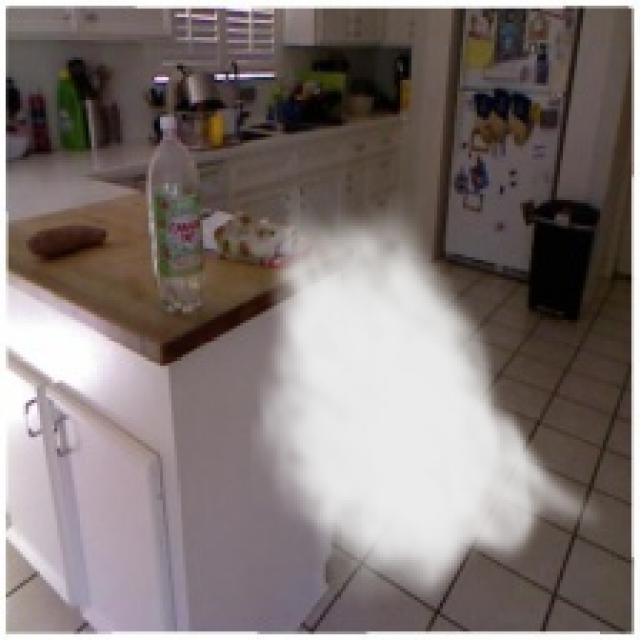smoke: (248, 186, 608, 611)
